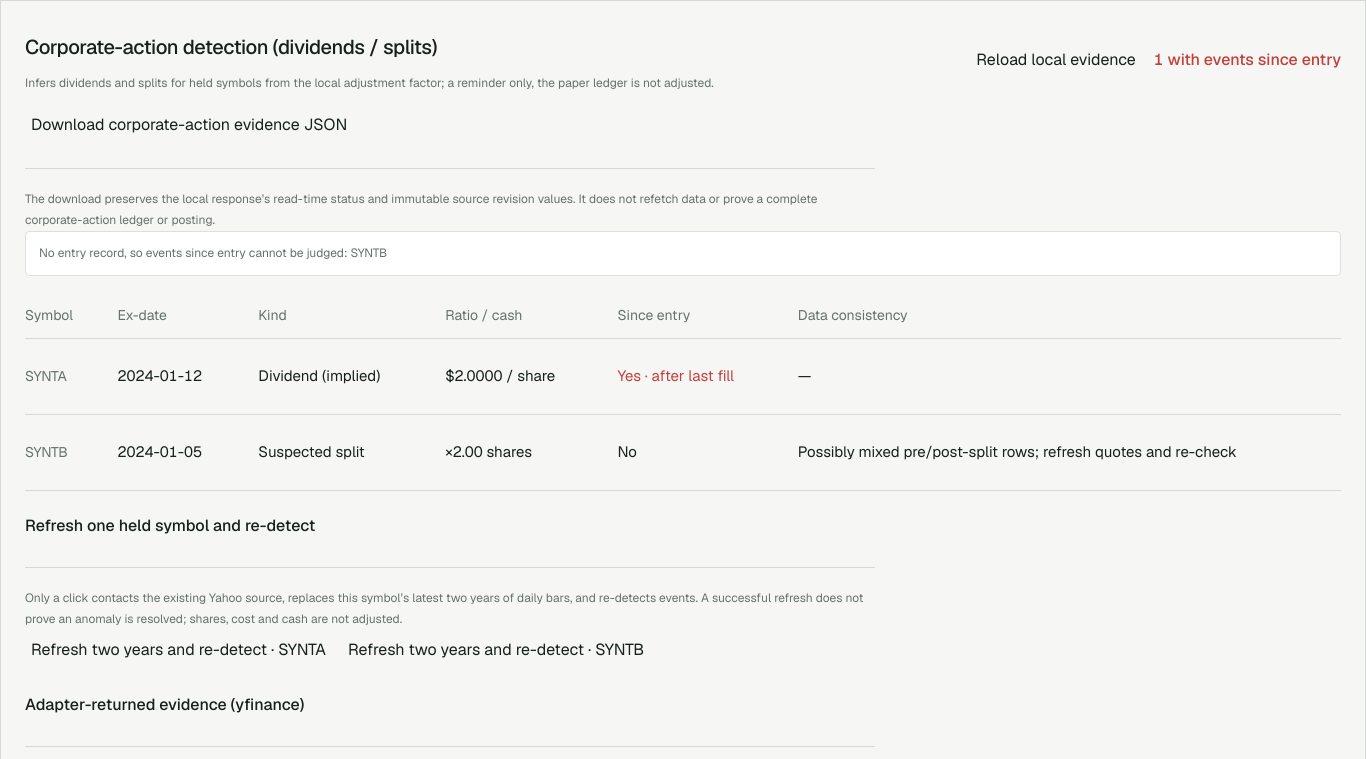
Test: explicit held-symbol refresh jobs › retains evidence after busy or stale-context rejection without launching a second request
This screenshot has width=1366, height=759.
Click the button "Refresh two years and re-detect · SYNTA" at (178, 650), box [25,630,332,670]
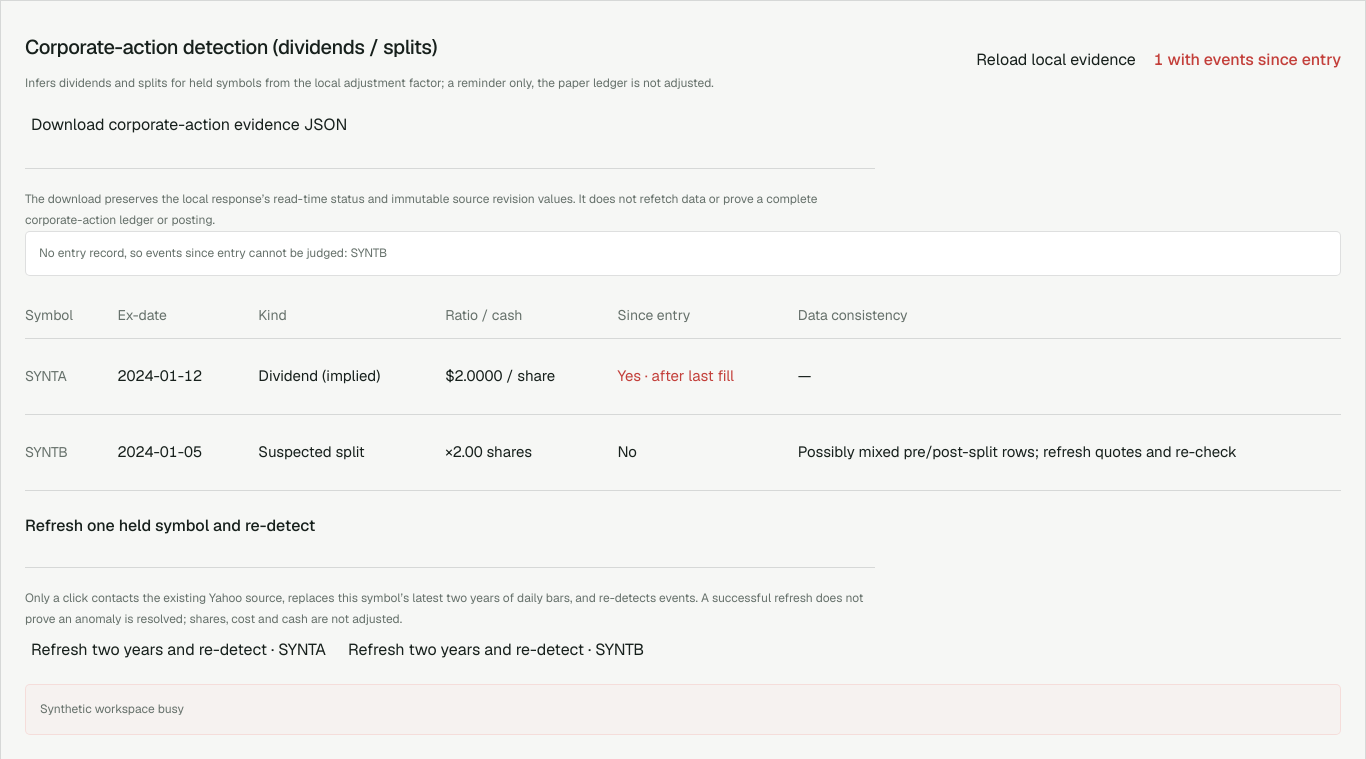
Now the message "Synthetic workspace busy" is shown, box [25,684,1341,735]
